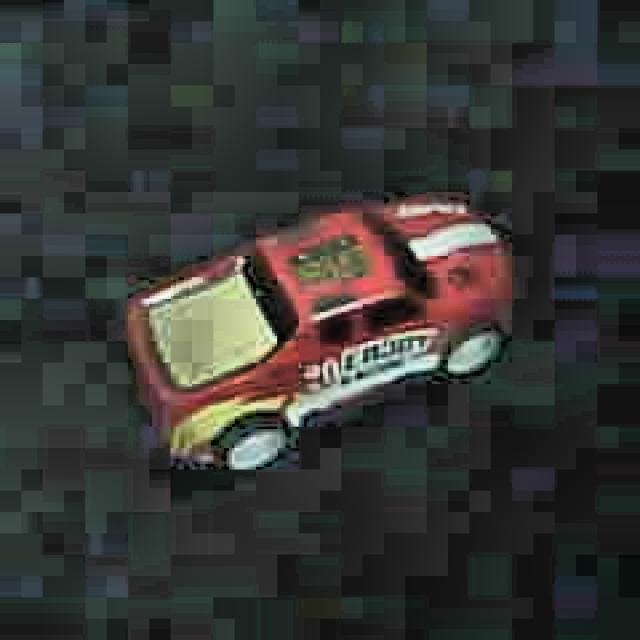car: (119, 189, 520, 481)
